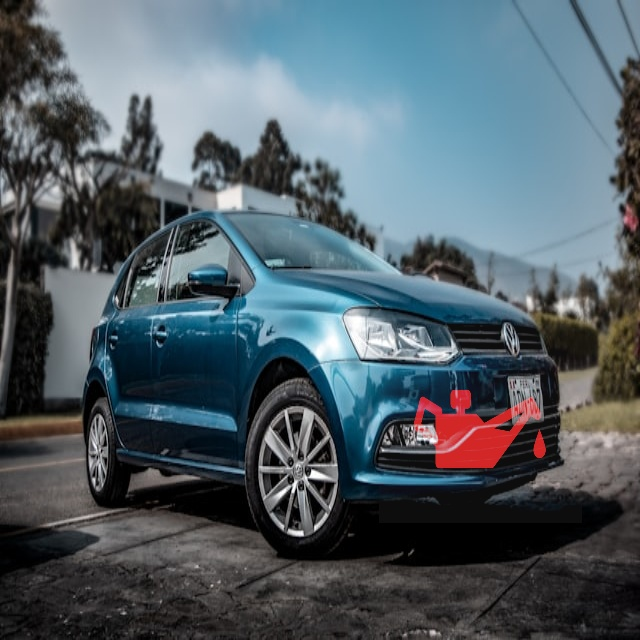symbol: (379, 320, 582, 523)
